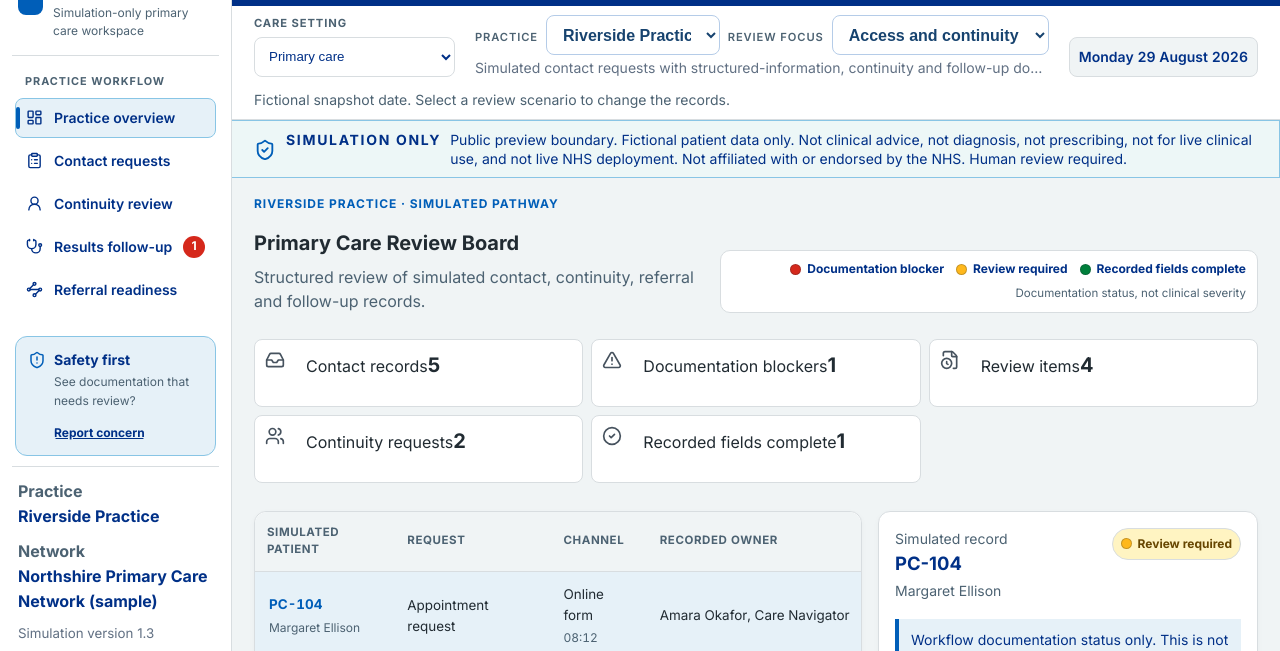
Test: SafeFlow primary-care pathway › navigates primary-care workflow views and saves a browser-local review note
Click the button "Results follow-up 1" at (116, 247), box [15,227,216,267]
(page scrolled)
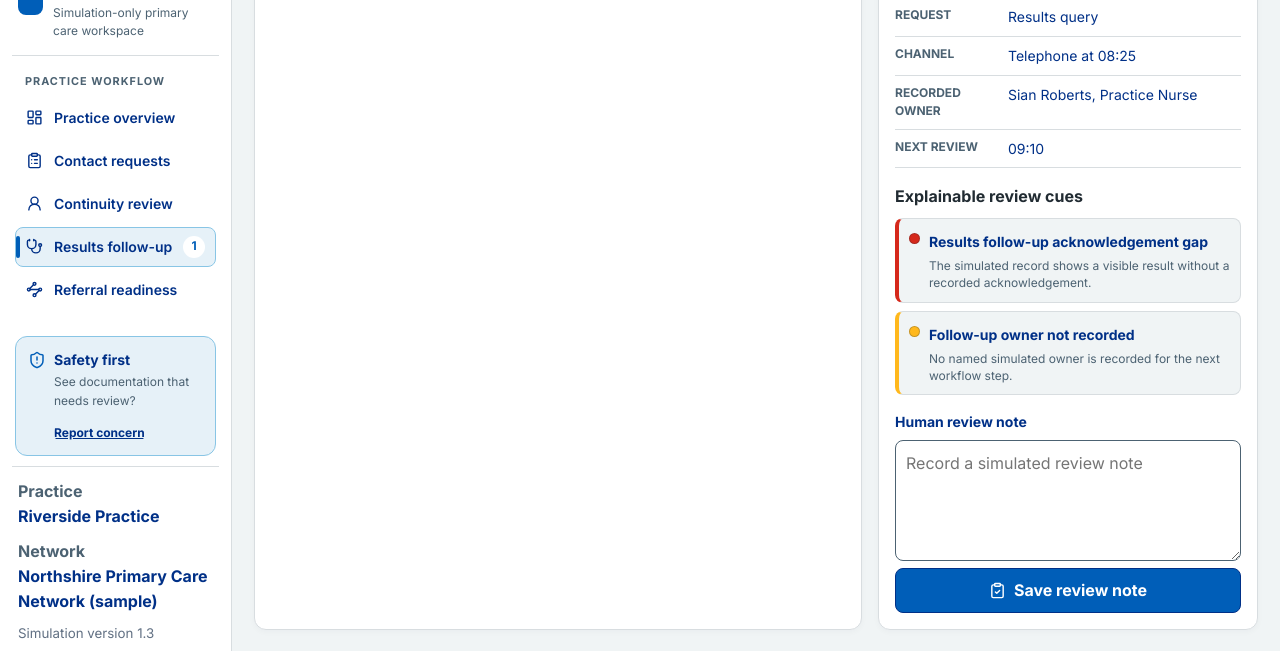
Type "Fictional review completed." into the text box labelled "Human review note" at (1068, 501), box [895,440,1241,561]
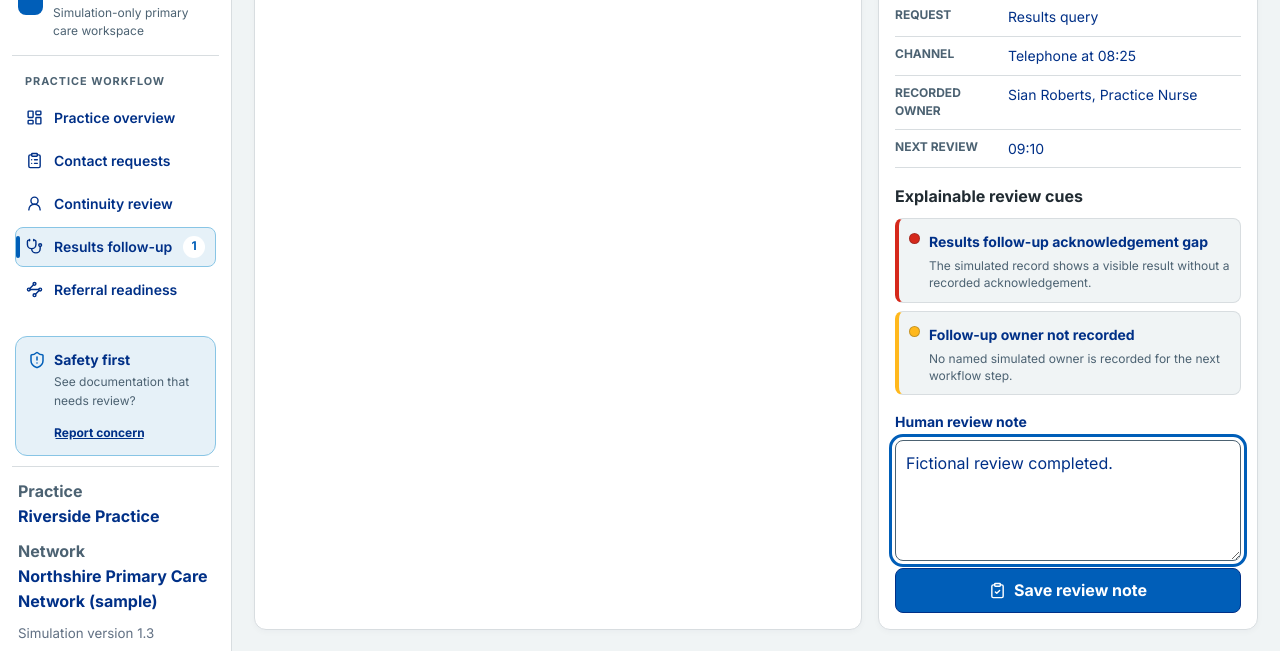
Click the button "Save review note" at (1068, 591), box [895,568,1241,613]
(page scrolled)
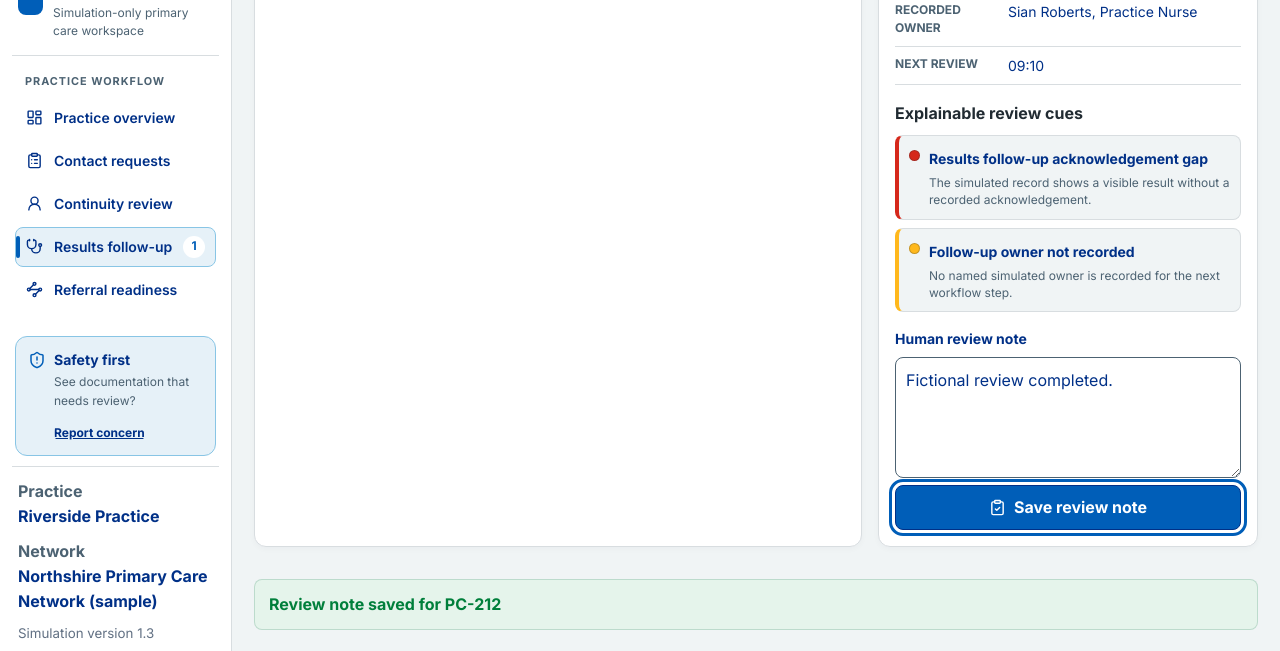
Now the message reads "Review note saved for PC-212", box [269,594,501,614]
